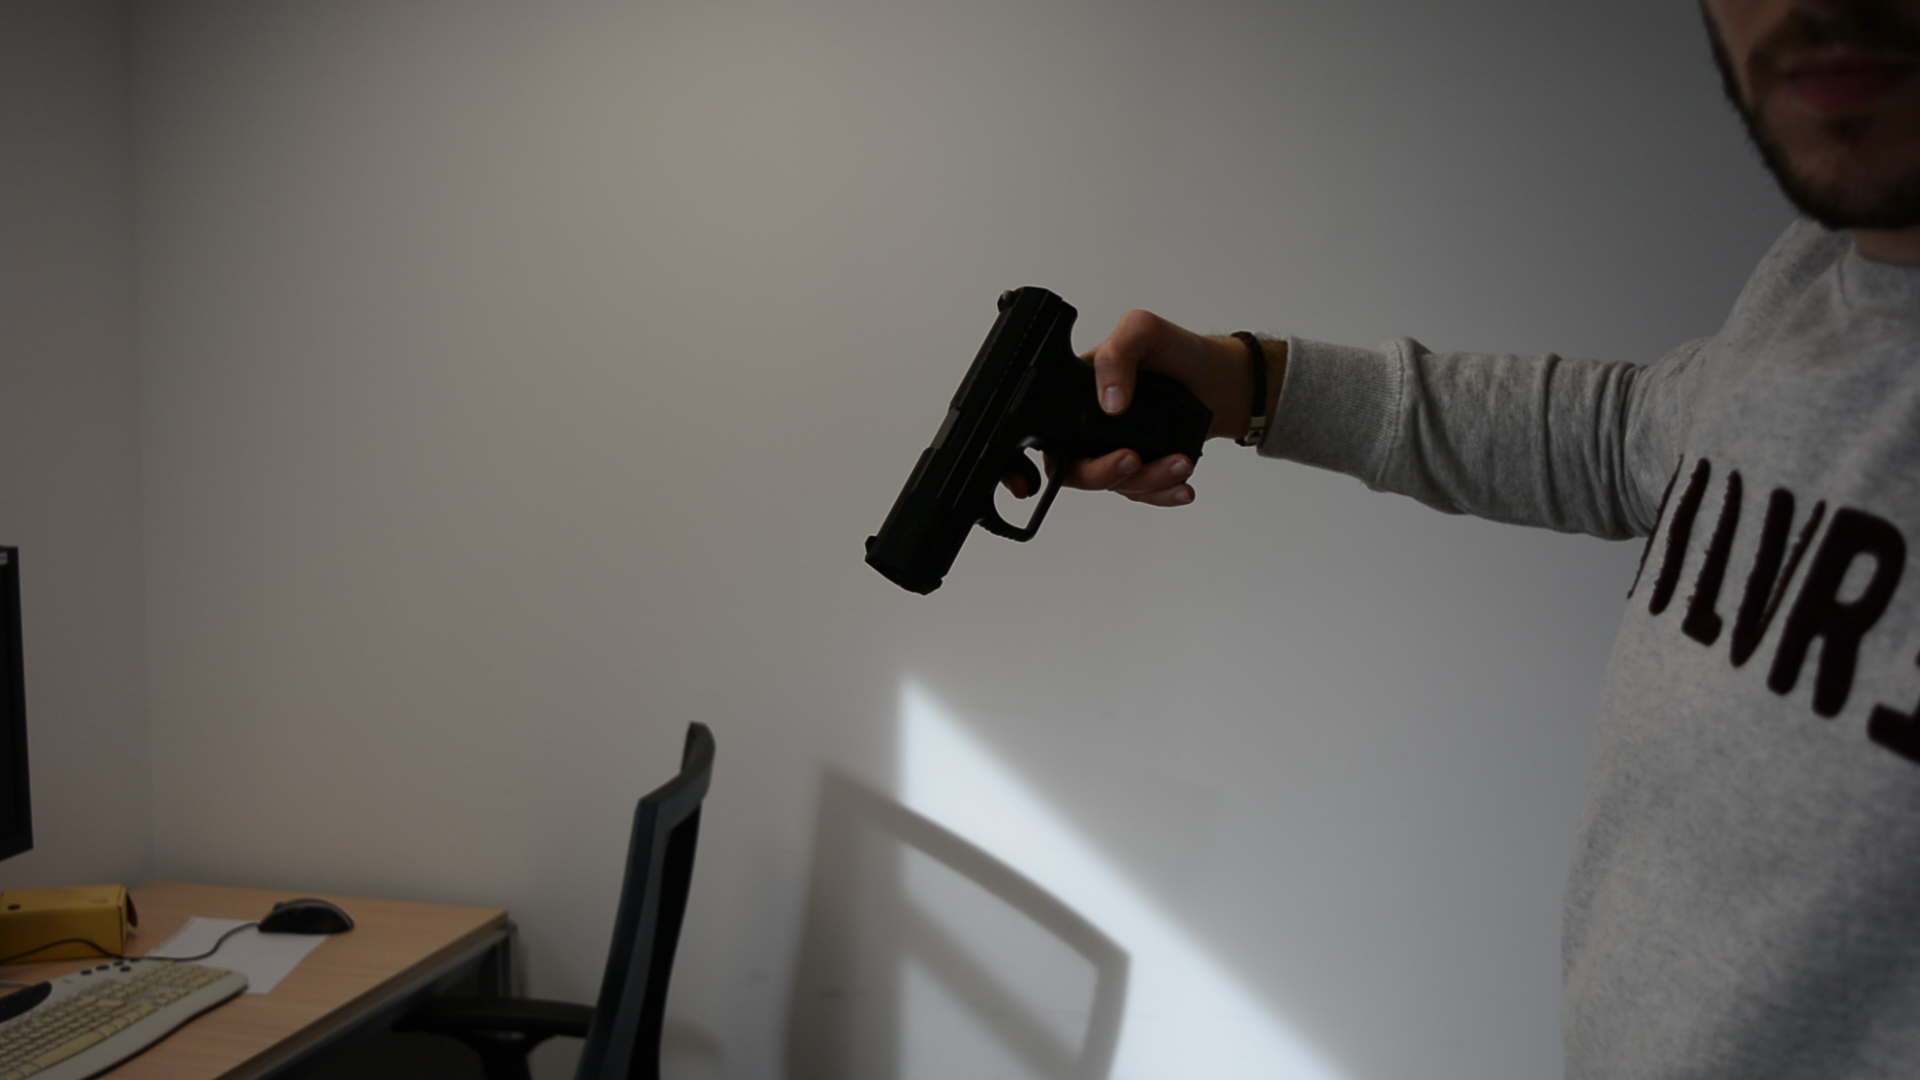pistol: (862, 284, 1216, 597)
